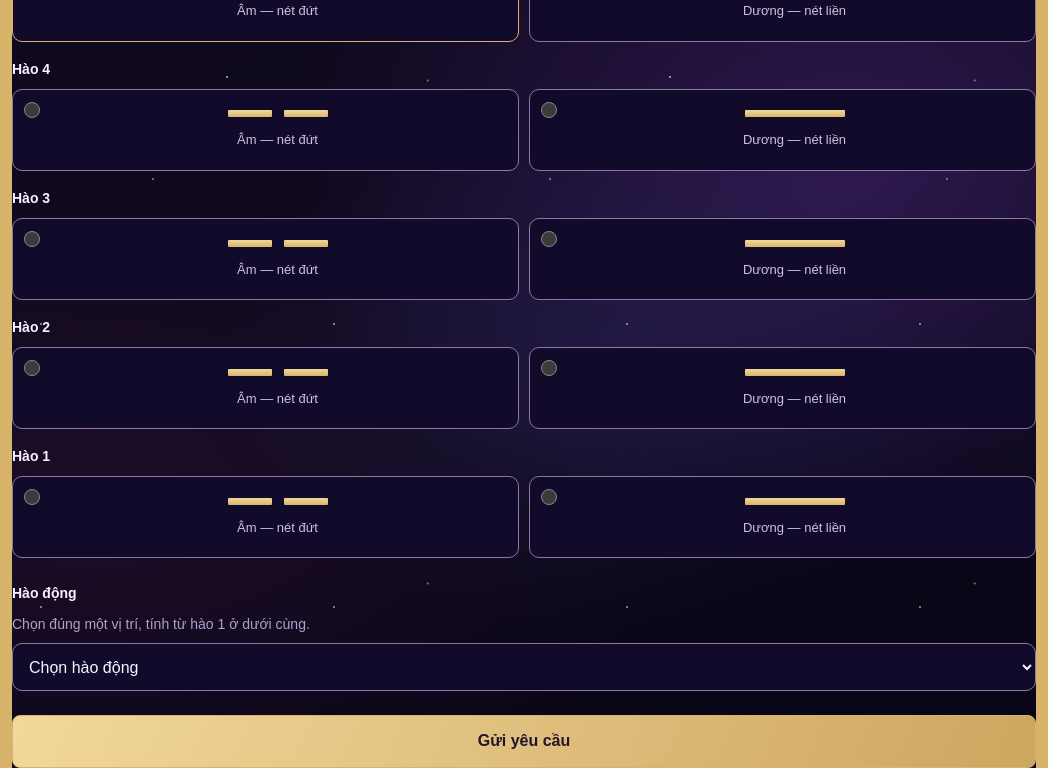
Scenario: LinesForm › rejects empty input and exposes errors and focus
(page scrolled)
Click the button "Gửi yêu cầu" at (524, 742), box [12,715,1036,767]
(page scrolled)
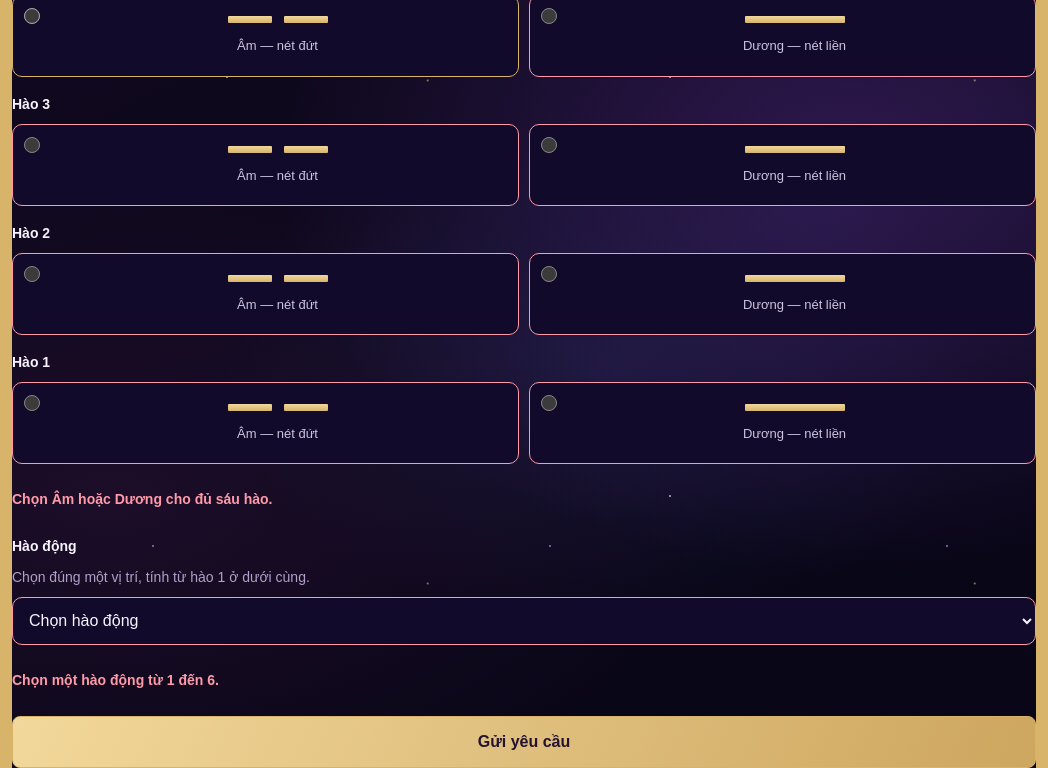
Expected: the number of messages is 2, [12,491,272,507]; [12,672,219,688]
Expected: the message "Chọn Âm hoặc Dương cho đủ sáu hào." is shown, [12,491,272,507]
